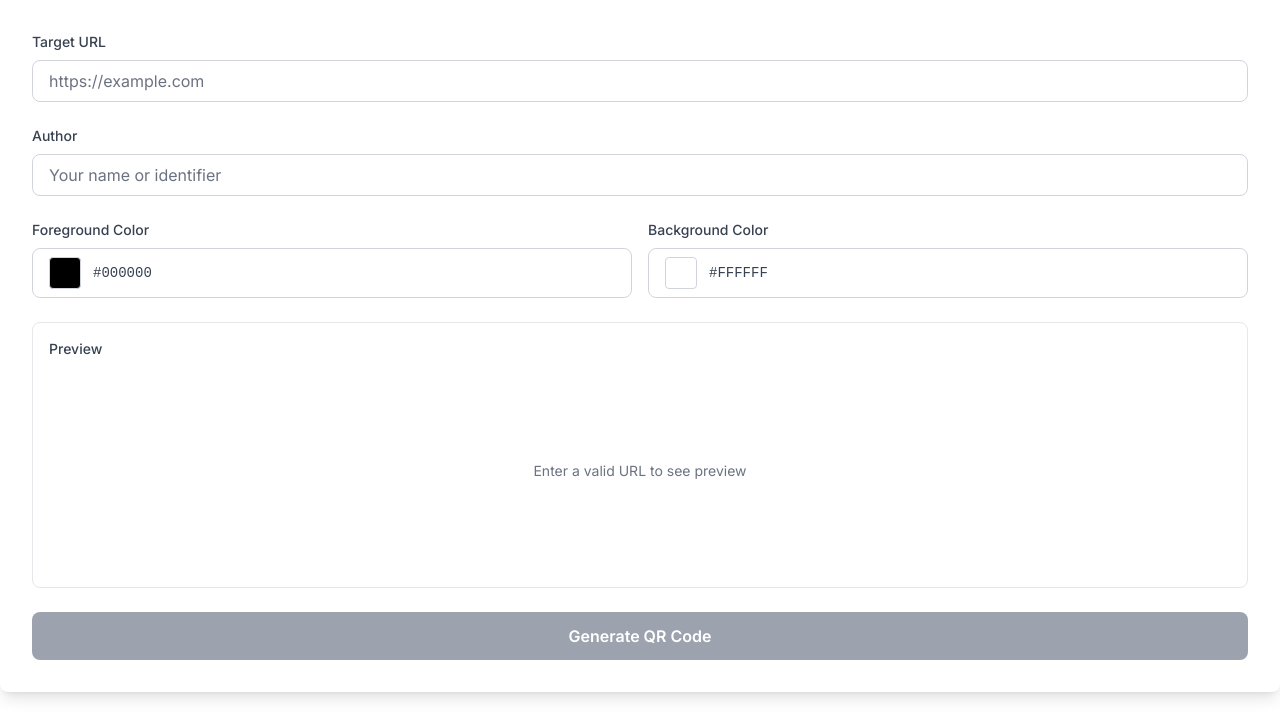
Test case: QRGenerator › Color pickers › should close foreground color picker when clicking outside
Open the picker
Click the button "#000000": (65, 273) x1=32 y1=248 x2=632 y2=298
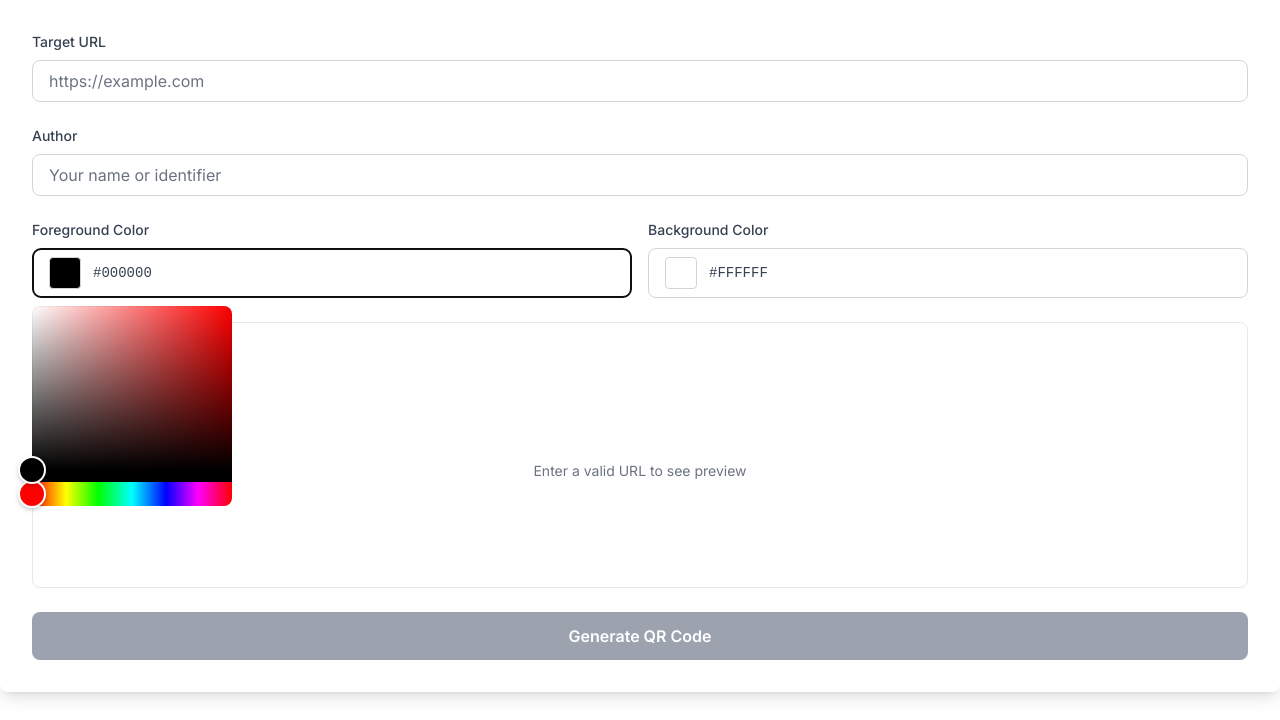
Expected: the element with class "react-colorful" is shown, x1=32 y1=306 x2=232 y2=506
Click the element with class "inset-0": (640, 360) x1=0 y1=0 x2=1279 y2=719
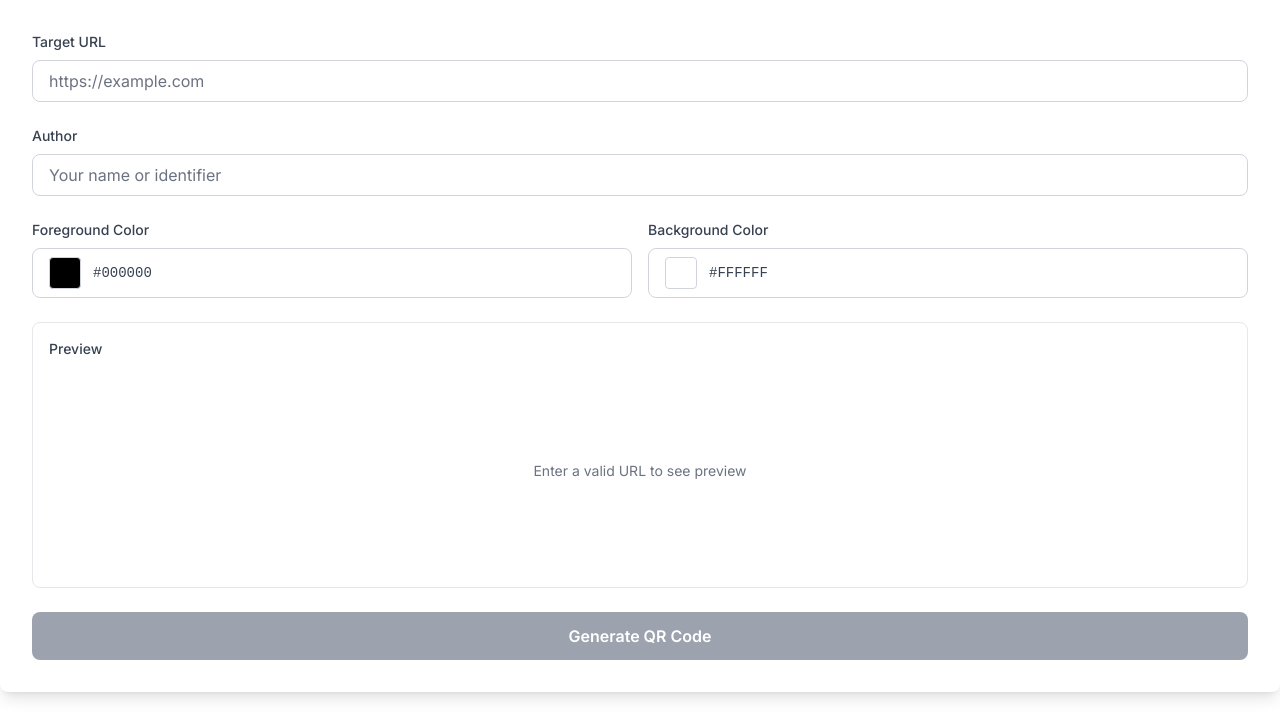
Expected: the element with class "react-colorful" is gone
